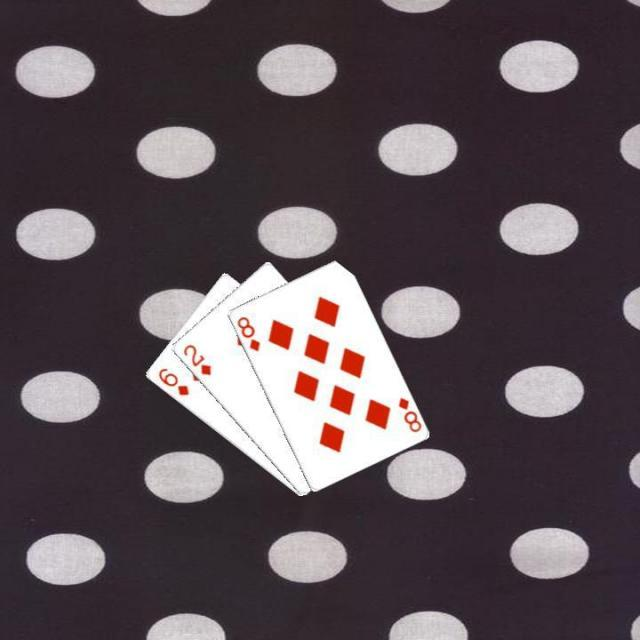2D: (178, 340, 212, 378)
6D: (154, 363, 190, 398)
8D: (232, 312, 262, 353), (394, 393, 424, 434)
